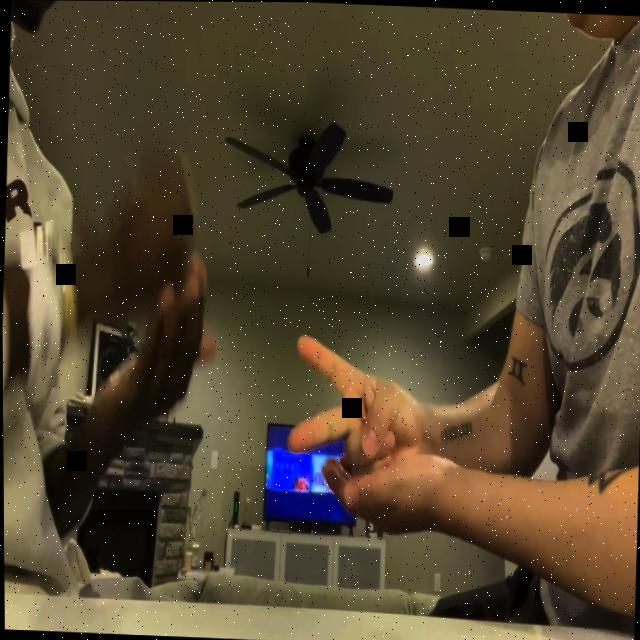Rock: (104, 146, 197, 310)
Scissors: (286, 336, 427, 478)
